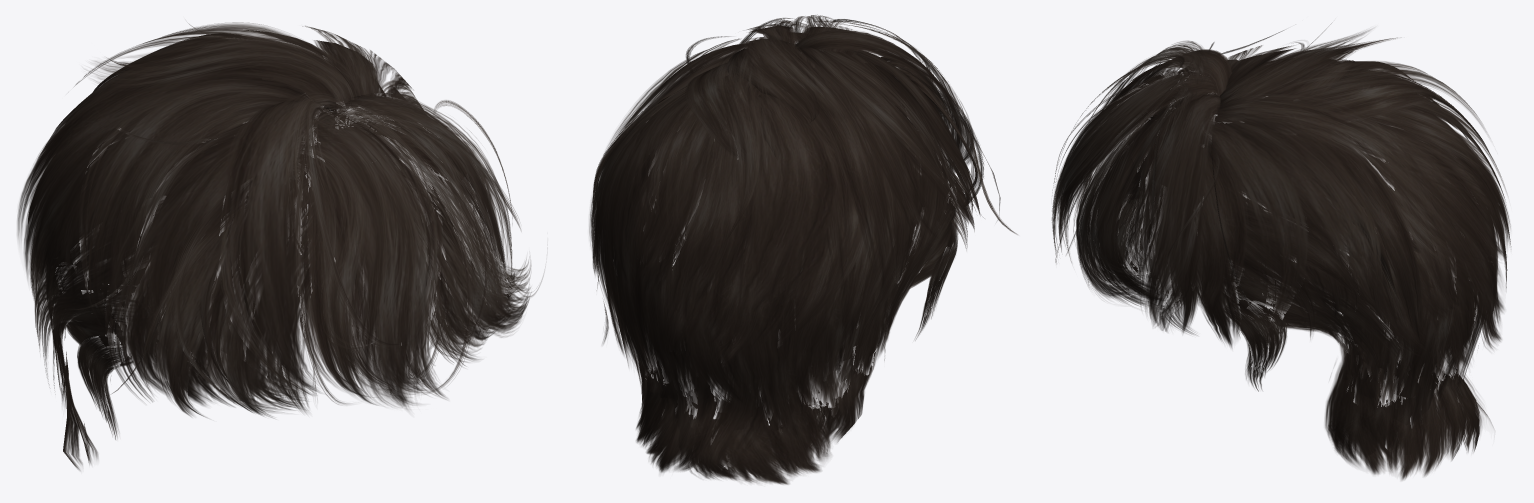
The model's file is Round_Wavy_Fringe.glb.
3 views of the same model, side by side, from view 1: azimuth 30°, elevation 25°; view 2: azimuth 150°, elevation 25°; view 3: azimuth 270°, elevation 25° (orthographic). The views are drawn at different scales.
Parts seen in each view (by area): view 1: s4studio_mesh_1.002; view 2: s4studio_mesh_1.002; view 3: s4studio_mesh_1.002.
Part boxes in pixels (x1=…): s4studio_mesh_1.002: x1=17, y1=22, x2=543, y2=470; s4studio_mesh_1.002: x1=589, y1=15, x2=1017, y2=484; s4studio_mesh_1.002: x1=1052, y1=23, x2=1511, y2=480.
Bounding box in the file's own units: 0.2317 × 0.2507 × 0.2605.
Materials: 1 (1 with a texture image).
